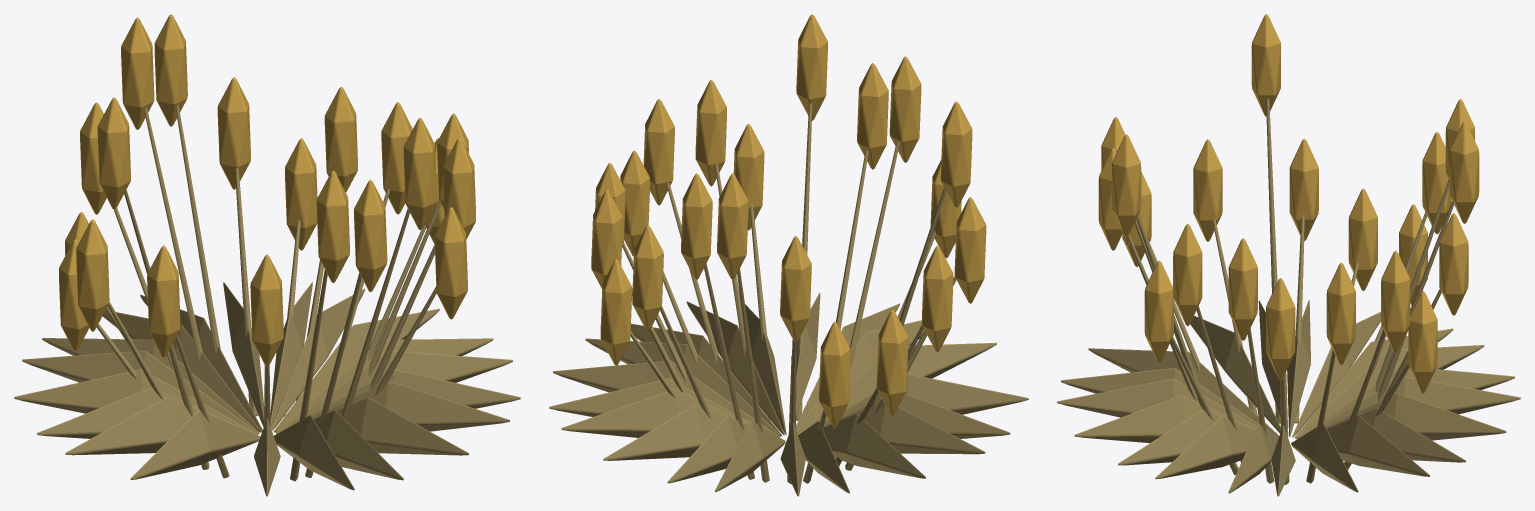
Rendered from dry_sedge.glb.
The picture shows the model from 3 angles, left to right: view 1: azimuth 30°, elevation 25°; view 2: azimuth 150°, elevation 25°; view 3: azimuth 270°, elevation 25°; orthographic projection. The views are drawn at different scales.
Parts seen in each view (by area): view 1: SedgeBlade.002, SeedHead.002; view 2: SedgeBlade.002, SeedHead.002; view 3: SedgeBlade.002, SeedHead.002.
Boxes of the visible parts, x1,y1,x2,y2 form: SedgeBlade.002: (14,105,520,496); SeedHead.002: (59,14,475,366); SedgeBlade.002: (549,103,1028,496); SeedHead.002: (591,14,986,428); SedgeBlade.002: (1057,98,1520,496); SeedHead.002: (1098,14,1479,393).
Bounding box in the file's own units: 0.9207 × 0.806 × 0.9226.
